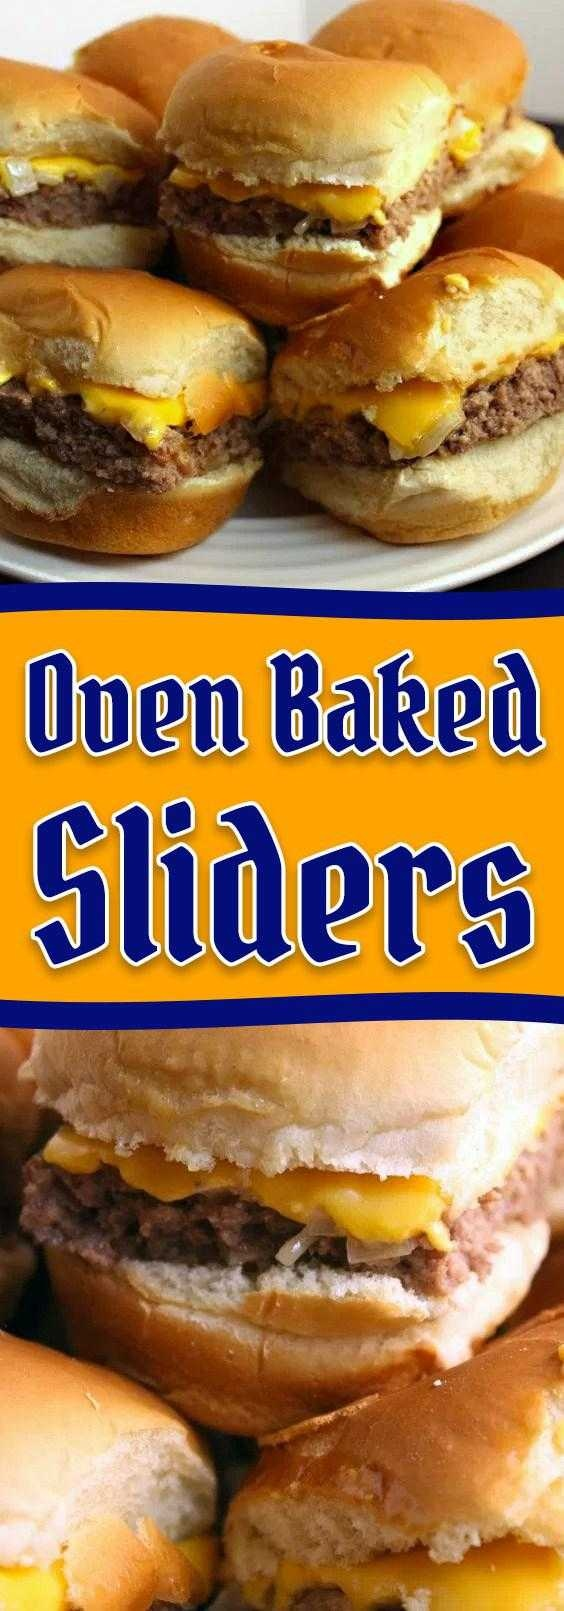hamburger: (5, 23, 560, 580)
